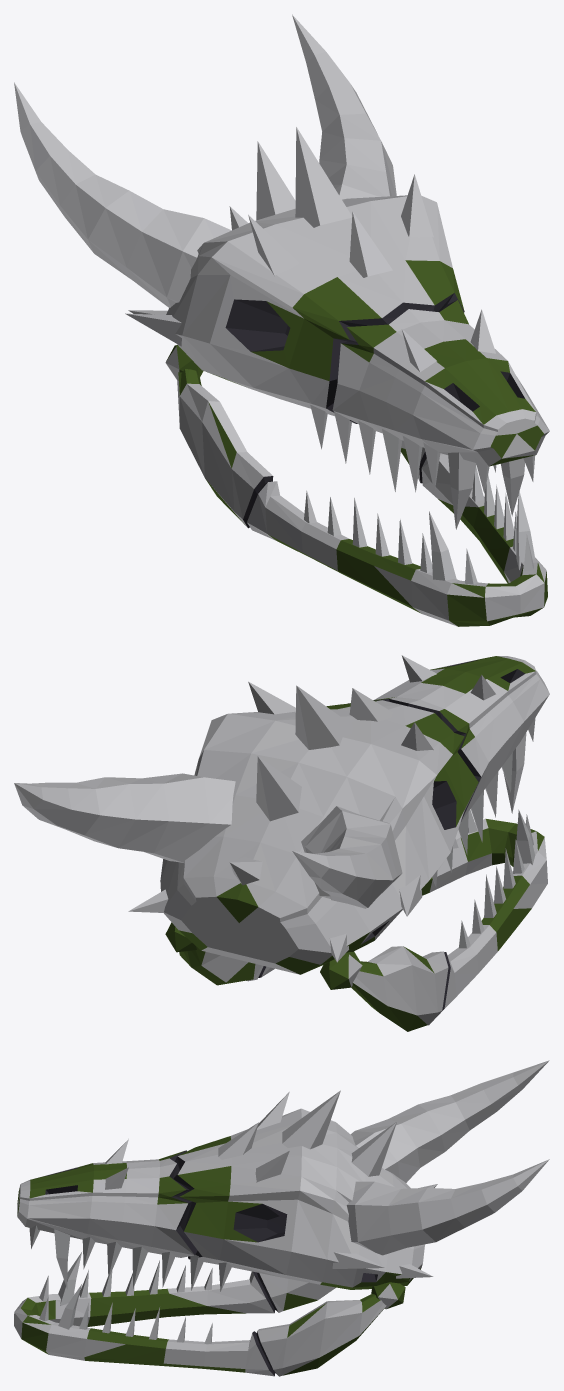
File: ancient-dragon-skull-7be378.glb
3 views of the same model, one above another, from view 1: azimuth 30°, elevation 25°; view 2: azimuth 150°, elevation 25°; view 3: azimuth 270°, elevation 25° (orthographic). The views are drawn at different scales.
Visible parts, largest first — view 1: skull-upper-mesh, jaw-mesh; view 2: skull-upper-mesh, jaw-mesh; view 3: skull-upper-mesh, jaw-mesh.
Boxes of the visible parts, bbox=[...] form: skull-upper-mesh: bbox=[14, 14, 549, 529]; jaw-mesh: bbox=[165, 345, 547, 626]; skull-upper-mesh: bbox=[14, 655, 549, 974]; jaw-mesh: bbox=[165, 809, 547, 1031]; skull-upper-mesh: bbox=[17, 1060, 549, 1291]; jaw-mesh: bbox=[14, 1252, 405, 1376].
Size of the model in its own units: 2.08 by 2.16 by 4.13.
